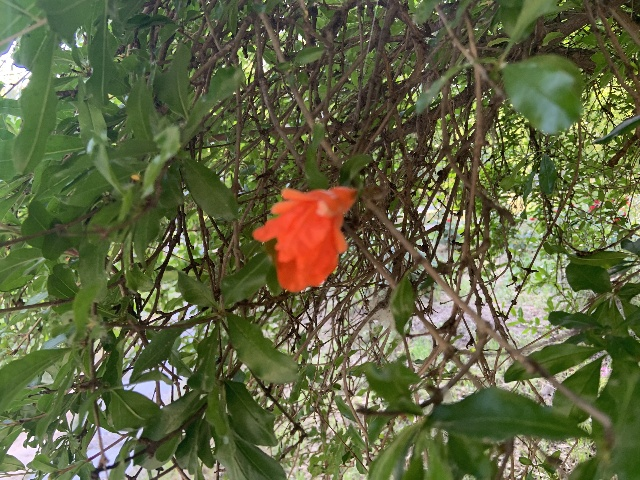flower: (252, 185, 357, 291)
